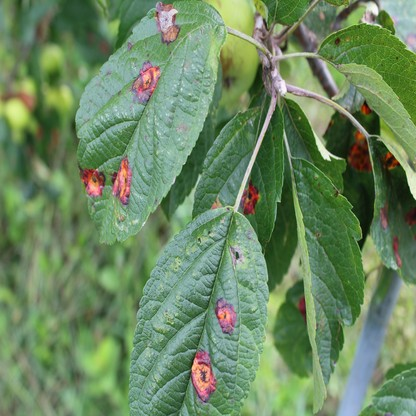rust: (191, 351, 215, 401), (133, 61, 160, 101), (111, 155, 132, 203), (155, 2, 179, 41), (350, 133, 372, 172), (216, 297, 236, 334), (79, 167, 105, 195), (241, 179, 259, 213), (392, 234, 403, 267), (382, 150, 399, 169), (379, 205, 389, 228), (404, 206, 416, 225), (298, 295, 306, 321), (359, 101, 370, 114)
